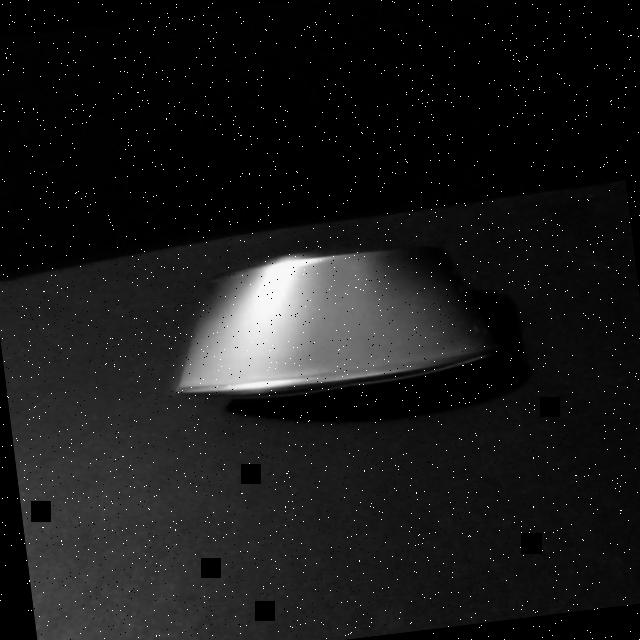can: (152, 228, 502, 418)
